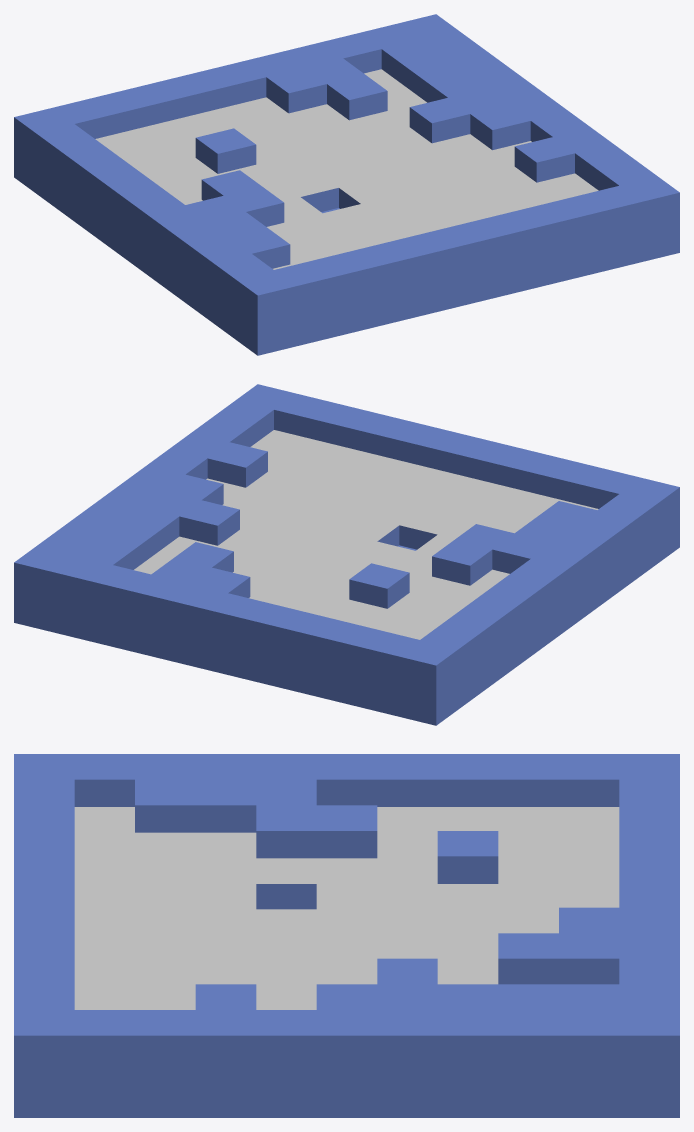
Rendered from 040_platform.fbx.
3 views of the same model, one above another, from view 1: azimuth 30°, elevation 25°; view 2: azimuth 150°, elevation 25°; view 3: azimuth 270°, elevation 25° (orthographic). The views are drawn at different scales.
Visible parts, largest first — view 1: Cube; view 2: Cube; view 3: Cube.
Part boxes in pixels (bbox=[...]): Cube: bbox=[14, 14, 679, 355]; Cube: bbox=[14, 384, 679, 725]; Cube: bbox=[14, 754, 679, 1117].
Bounding box in the file's own units: 1100 × 150 × 1100.
